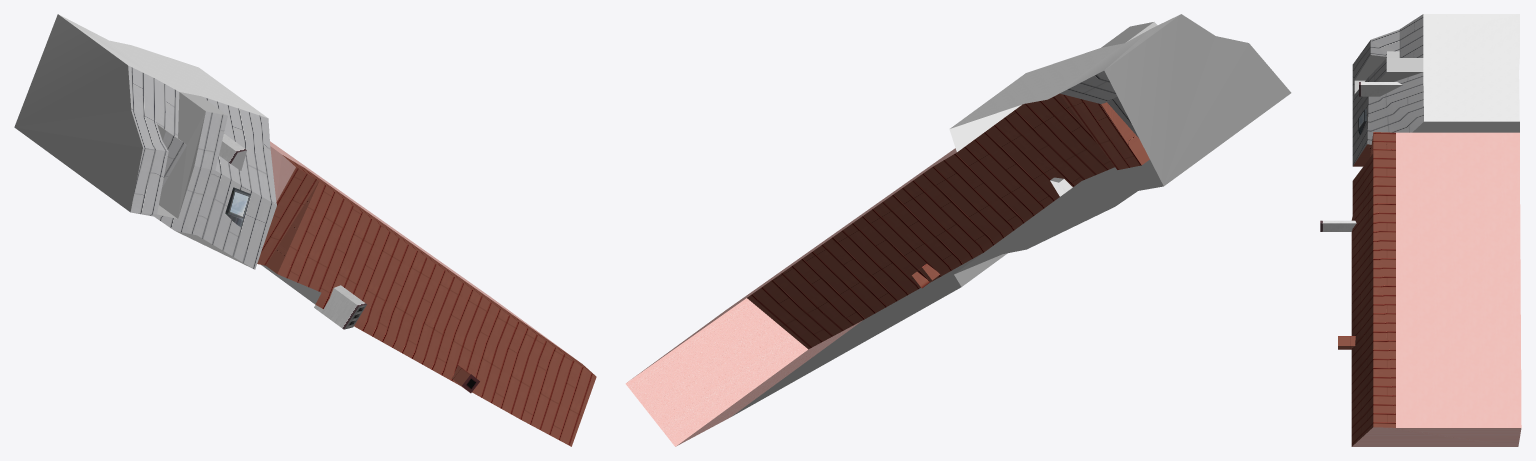
File: Pikk_39_2-origo.obj
3 renders of one model, left to right at view 1: azimuth 30°, elevation 25°; view 2: azimuth 150°, elevation 25°; view 3: azimuth 270°, elevation 25°, orthographic. The views are drawn at different scales.
Parts seen in each view (by area): view 1: Pikk_39_2; view 2: Pikk_39_2; view 3: Pikk_39_2.
Part boxes in pixels (x1,y1,x2,y2): Pikk_39_2: (14, 14, 596, 446); Pikk_39_2: (625, 14, 1291, 446); Pikk_39_2: (1320, 14, 1521, 446).
Bounding box in the file's own units: 25.94 × 22.5 × 13.59.
